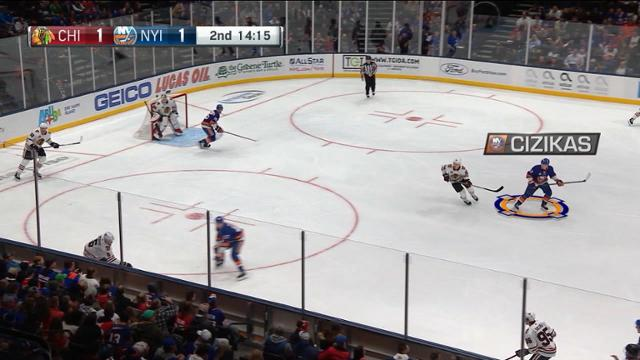geico: (92, 83, 156, 114)
